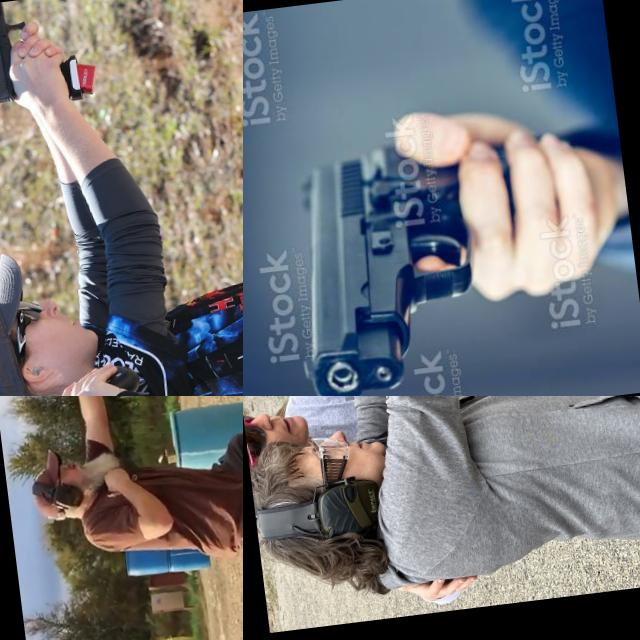handgun: (274, 121, 587, 396), (0, 0, 102, 113), (280, 396, 354, 443), (54, 396, 94, 411)
